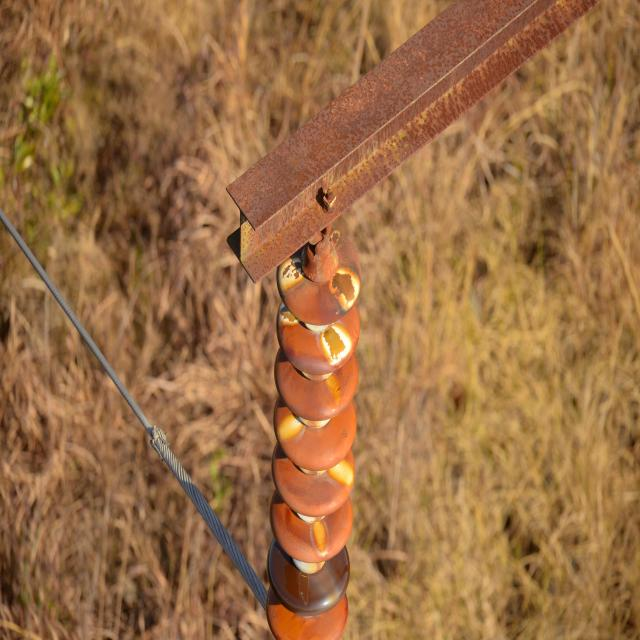insulator: (265, 224, 362, 640)
